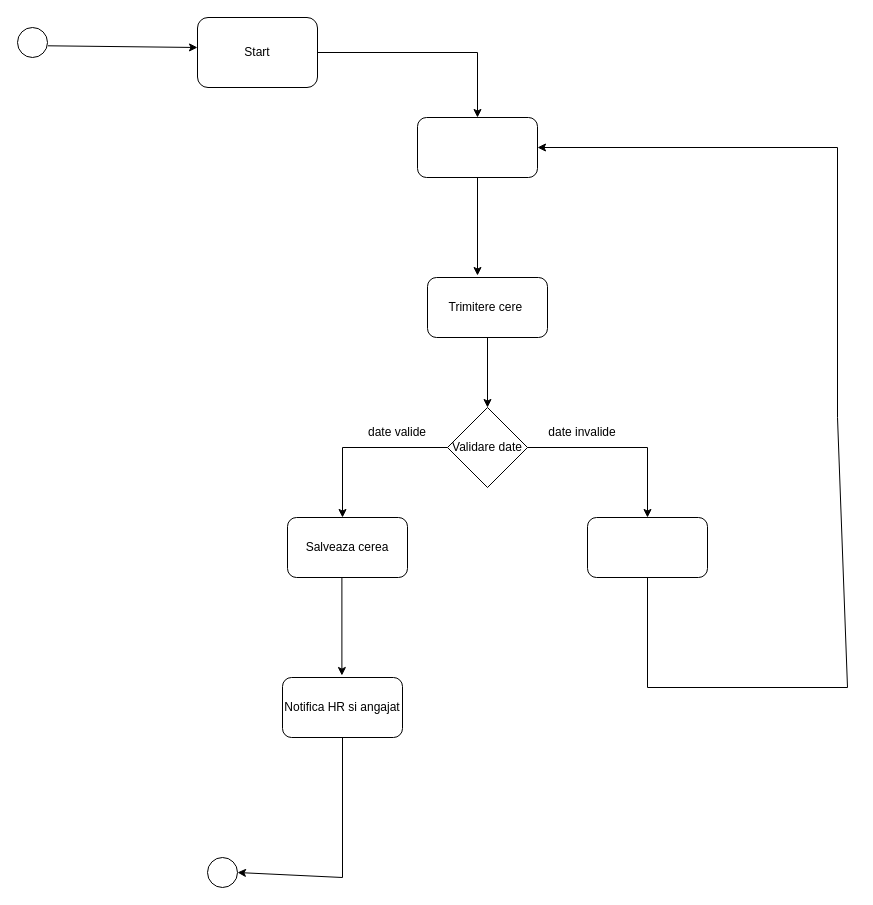
Image size: 873x905. Some labels were removed from this diagram. The shapes that lost their labels are listed below. From the top down, each one's centre as x and y in pixels, then its label:
At (477,147): "Completeaza formular".
At (647,547): "Eroare".
